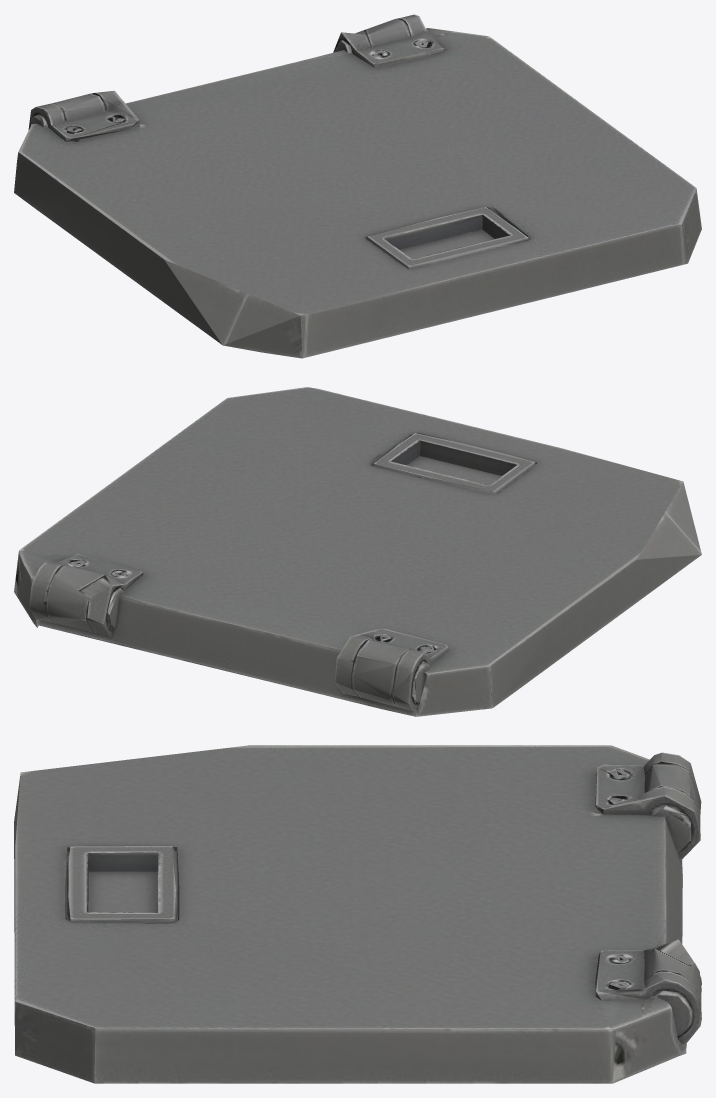
The model's file is imperial_armoured_bunker__roof_hatch_lod1.glb.
3 views of the same model, one above another, from view 1: azimuth 30°, elevation 25°; view 2: azimuth 150°, elevation 25°; view 3: azimuth 270°, elevation 25° (orthographic). The views are drawn at different scales.
Visible parts, largest first — view 1: mesh_node; view 2: mesh_node; view 3: mesh_node.
Part boxes in pixels (x1=…): mesh_node: x1=14, y1=14, x2=701, y2=358; mesh_node: x1=14, y1=387, x2=701, y2=716; mesh_node: x1=14, y1=745, x2=701, y2=1083.
Size of the model in its own units: 1.95 by 0.23 by 1.95.
Materials: 1 (1 with a texture image).
